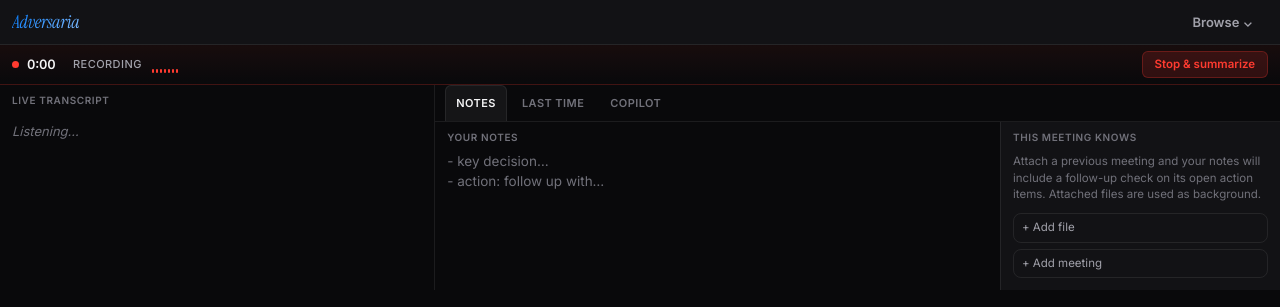
Test case: RecordingCompanion › shows Folder: none without folder
The image size is (1280, 307).
Click the tab "Copilot" at (636, 103), box left=599, top=85, right=672, bottom=121
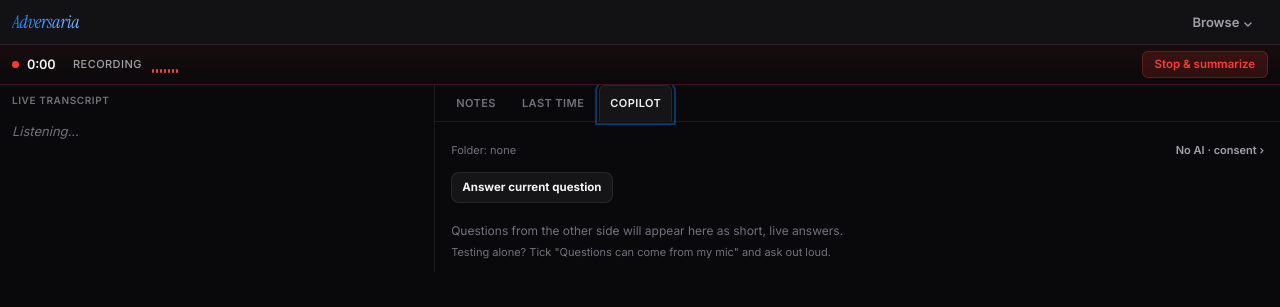
Now the text "Folder: none" is shown, box left=451, top=143, right=516, bottom=157
